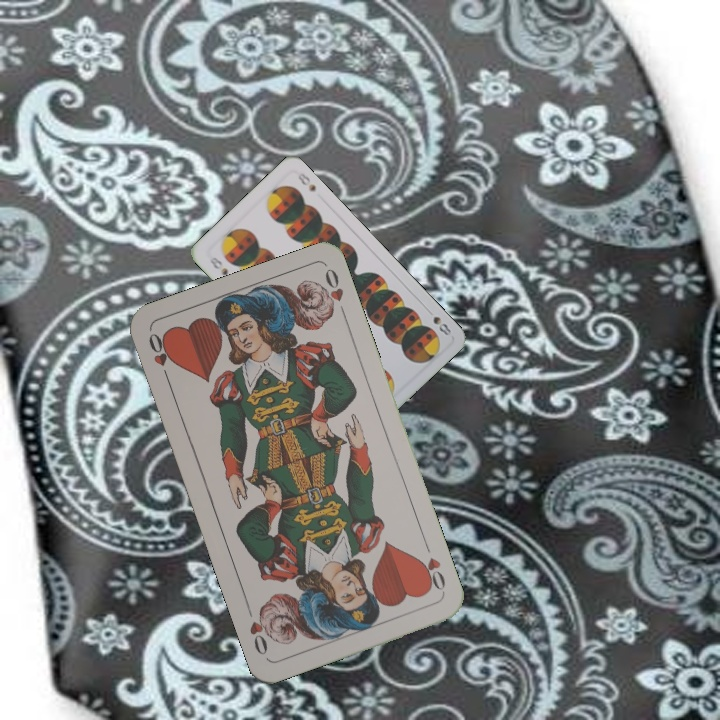HO: (415, 538, 448, 596), (144, 328, 176, 385)
S8: (422, 304, 454, 338), (205, 253, 231, 278)
